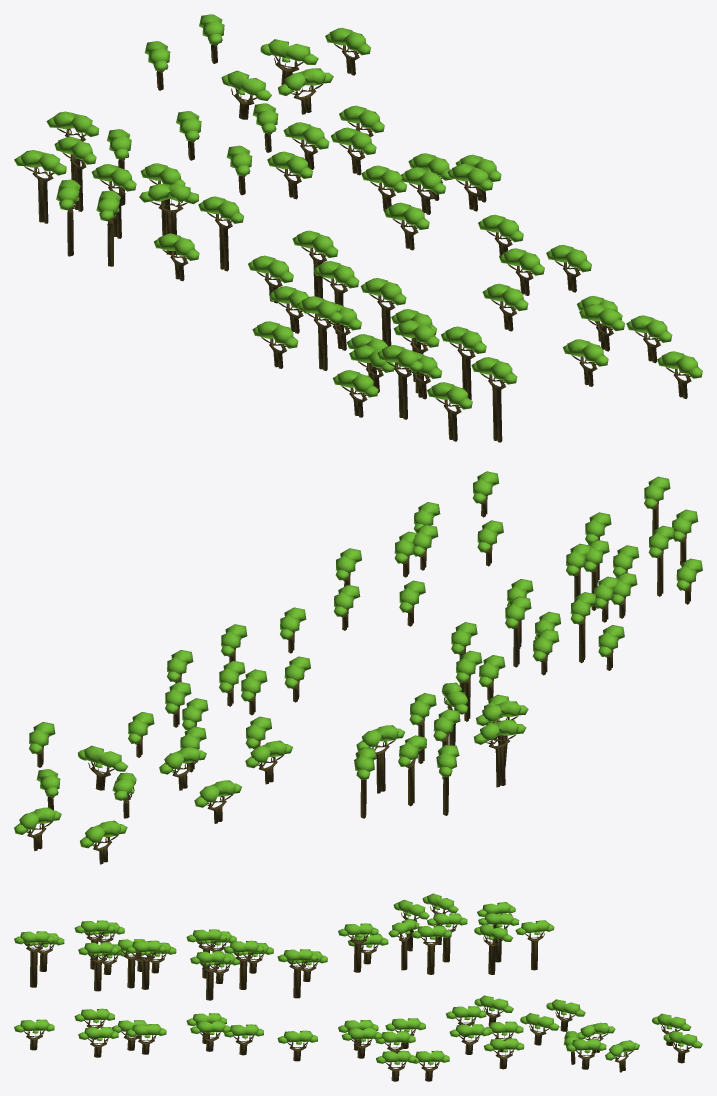
File: trees.fbx
3 renders of one model, top to bottom at view 1: azimuth 30°, elevation 25°; view 2: azimuth 150°, elevation 25°; view 3: azimuth 270°, elevation 25°, orthographic. The views are drawn at different scales.
Parts seen in each view (by area): view 1: Cube.139; view 2: Cube.139; view 3: Cube.139.
Part boxes in pixels (x1,y1,x2,y2): Cube.139: (14, 14, 702, 442); Cube.139: (14, 471, 702, 864); Cube.139: (14, 893, 702, 1081).
Bounding box in the file's own units: 4232 × 1055 × 8912.
